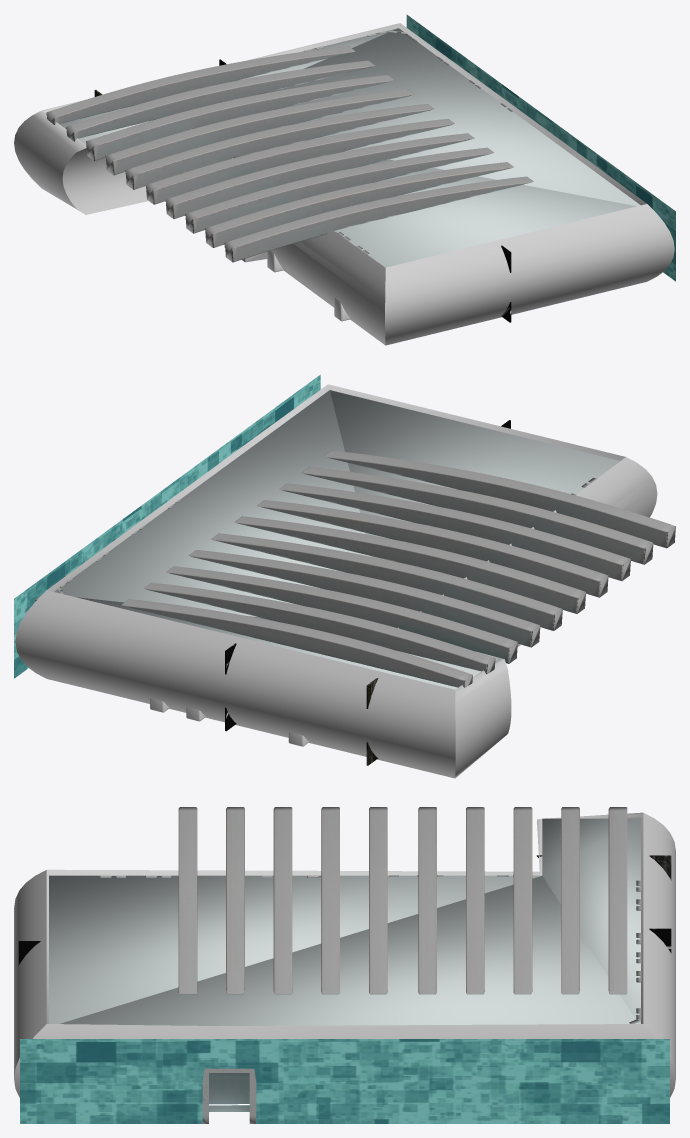
The model's file is L1- Science Lab - Q Space_v6.fbx.
3 views of the same model, one above another, from view 1: azimuth 30°, elevation 25°; view 2: azimuth 150°, elevation 25°; view 3: azimuth 270°, elevation 25° (orthographic). The views are drawn at different scales.
Parts seen in each view (by area): view 1: _Pillars, _Walls, _Ceiling, _Ext Wall; view 2: _Pillars, _Walls, _Ceiling, _Ext Wall; view 3: _Ceiling, _Ext Wall, _Pillars, _Walls, _Floor.
Part boxes in pixels (left/top/right/bottom): _Pillars: left=46, top=30, right=533, bottom=262; _Walls: left=14, top=23, right=674, bottom=345; _Ceiling: left=59, top=28, right=640, bottom=267; _Ext Wall: left=406, top=14, right=675, bottom=281; _Pillars: left=35, top=450, right=675, bottom=687; _Walls: left=15, top=384, right=657, bottom=778; _Ceiling: left=54, top=390, right=620, bottom=689; _Ext Wall: left=14, top=374, right=320, bottom=678; _Ceiling: left=49, top=818, right=640, bottom=1025; _Ext Wall: left=20, top=1039, right=669, bottom=1123; _Pillars: left=100, top=807, right=641, bottom=1023; _Walls: left=14, top=812, right=675, bottom=1123; _Floor: left=209, top=1073, right=249, bottom=1111.
Bounding box in the file's own units: 3273 × 700 × 3979.
